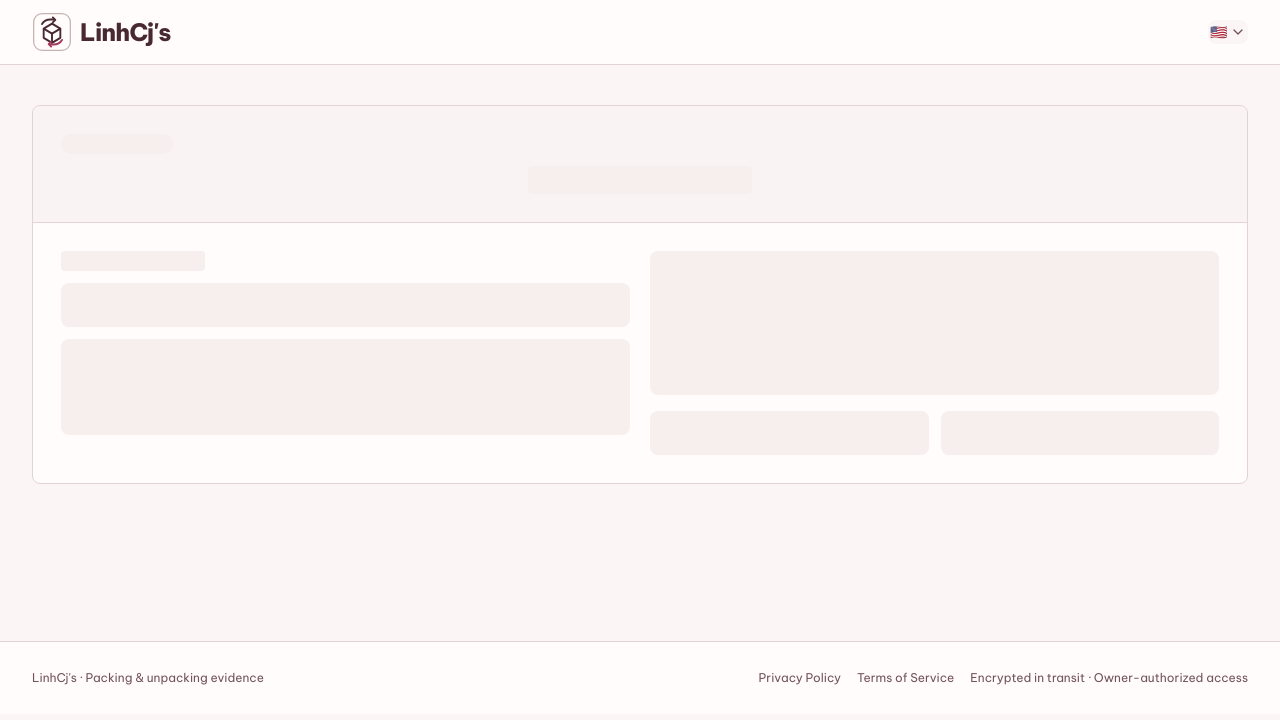
Test: shows an accessible workspace skeleton while the silent session check is pending
Click the button named "Language".
click(1228, 32)  # box [1208,20,1248,44]
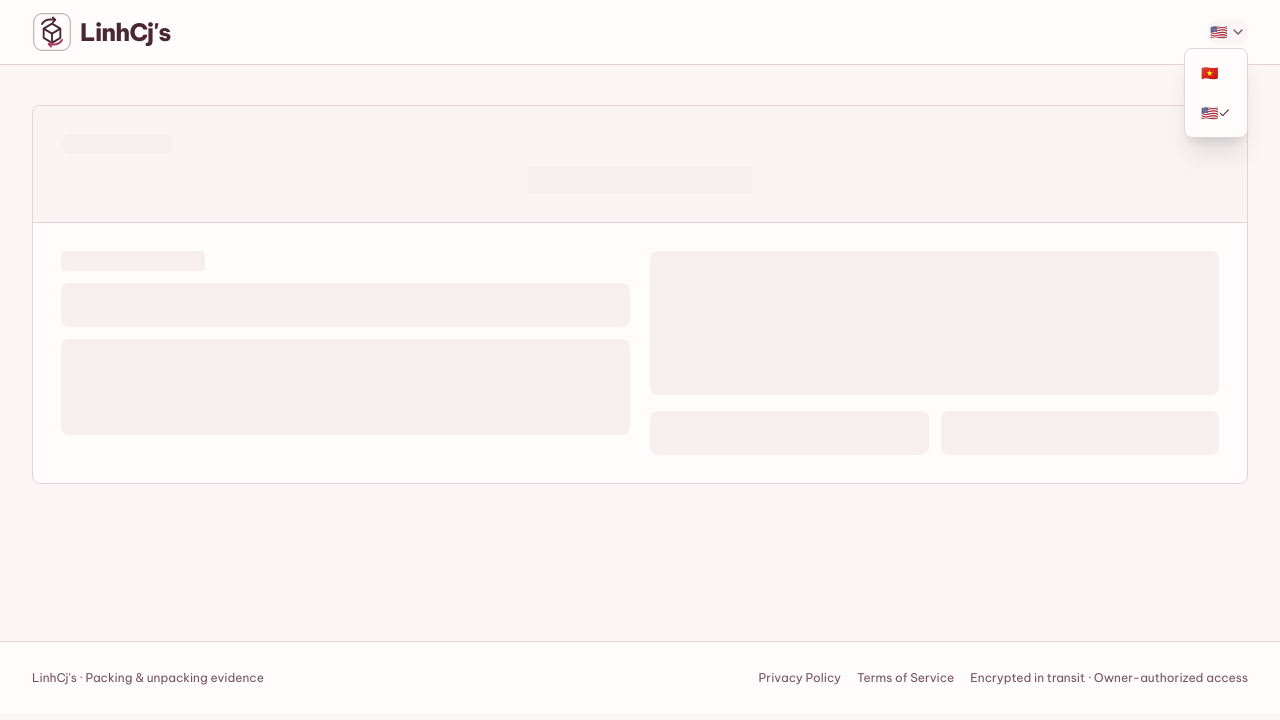
Check: the option named "Tiếng Việt" reads "🇻🇳", box [1189,53,1243,93]
Check: the option named "English" reads "🇺🇸", box [1189,93,1243,133]
